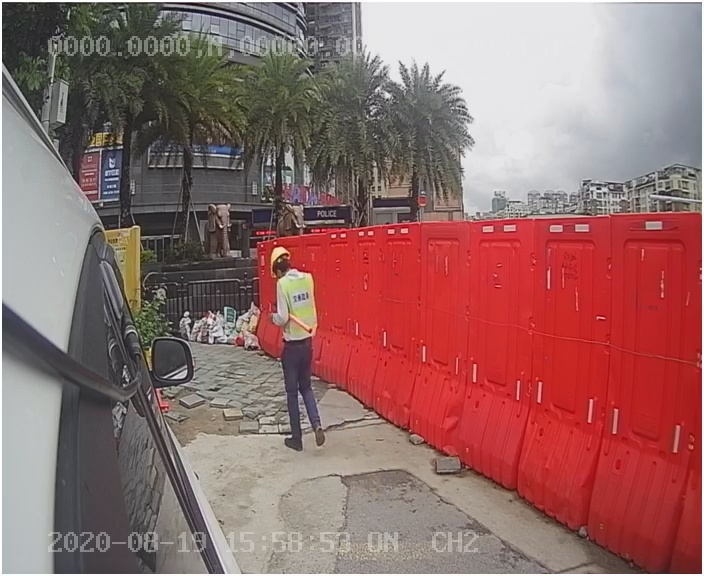person: (257, 244, 340, 455)
